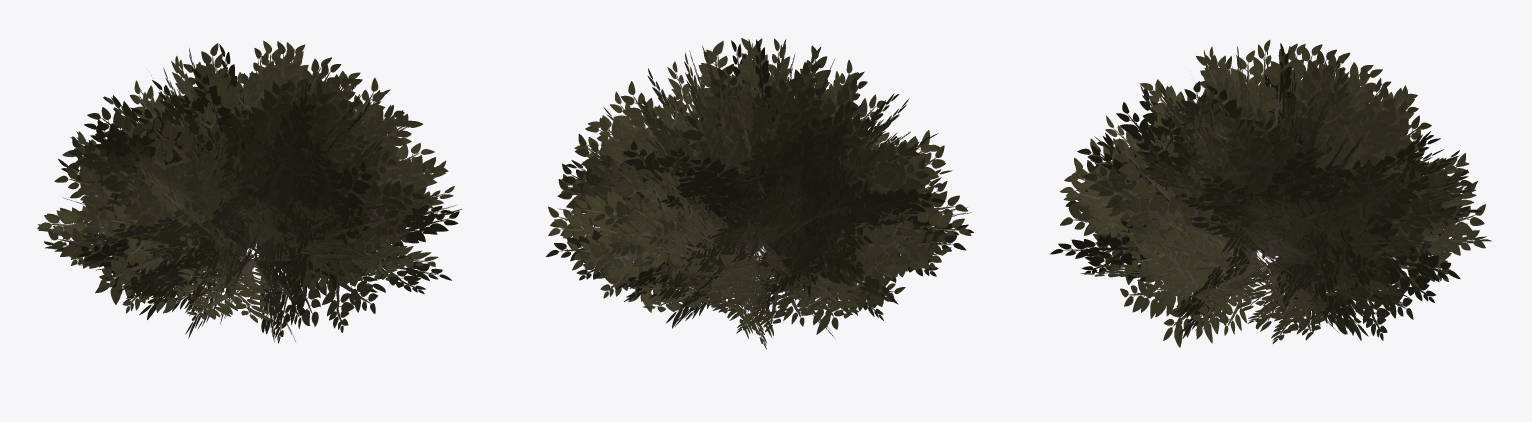
The model's file is Bush.fbx.
3 renders of one model, left to right at view 1: azimuth 30°, elevation 25°; view 2: azimuth 150°, elevation 25°; view 3: azimuth 270°, elevation 25°, orthographic. The views are drawn at different scales.
Parts seen in each view (by area): view 1: Plane.050; view 2: Plane.050; view 3: Plane.050.
Boxes of the visible parts, x1,y1,x2,y2 form: Plane.050: [37, 40, 461, 343]; Plane.050: [546, 38, 973, 349]; Plane.050: [1050, 40, 1491, 347].
Size of the model in its own units: 1.58 by 1.11 by 1.58.
